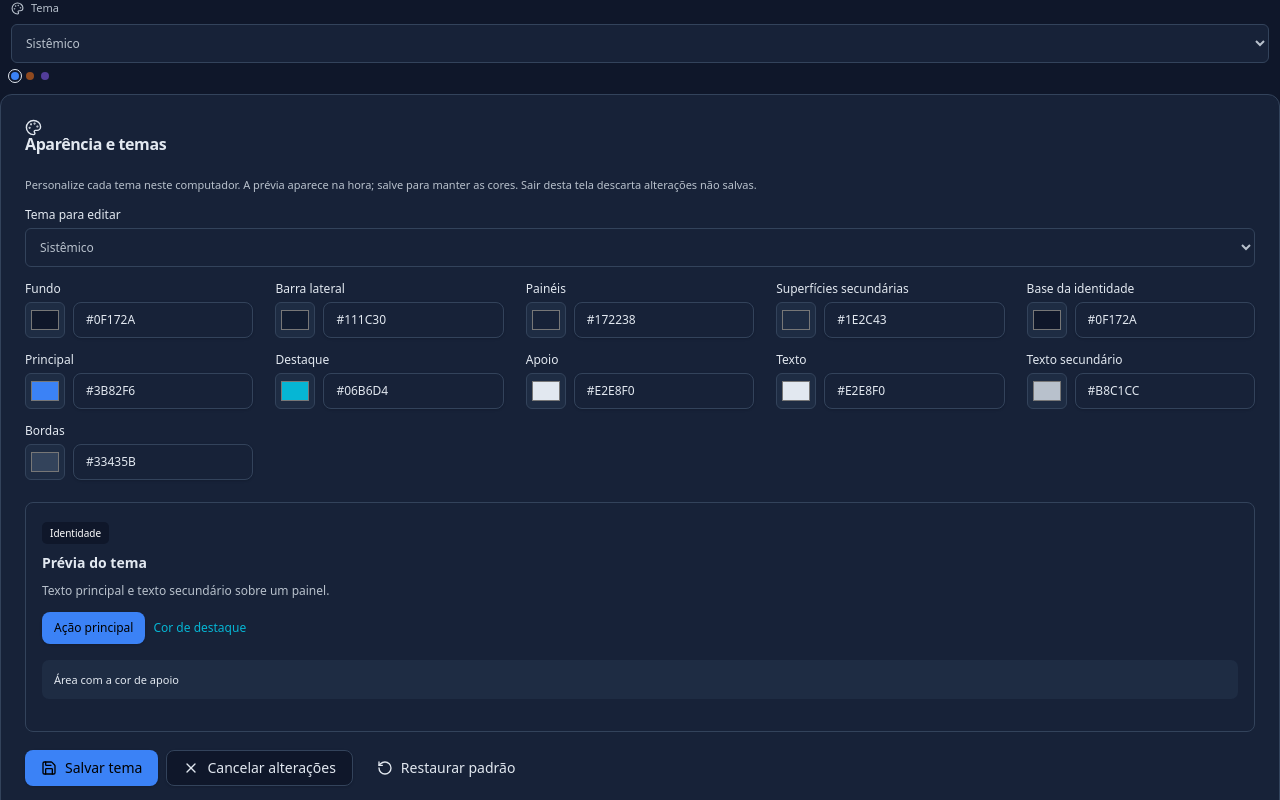
Scenario: troca pelo seletor lateral durante a edição carrega o tema escolhido
Select "Iterativo" in the dropdown labelled "Tema". click: {"x": 640, "y": 43}
box: [11, 24, 1269, 62]
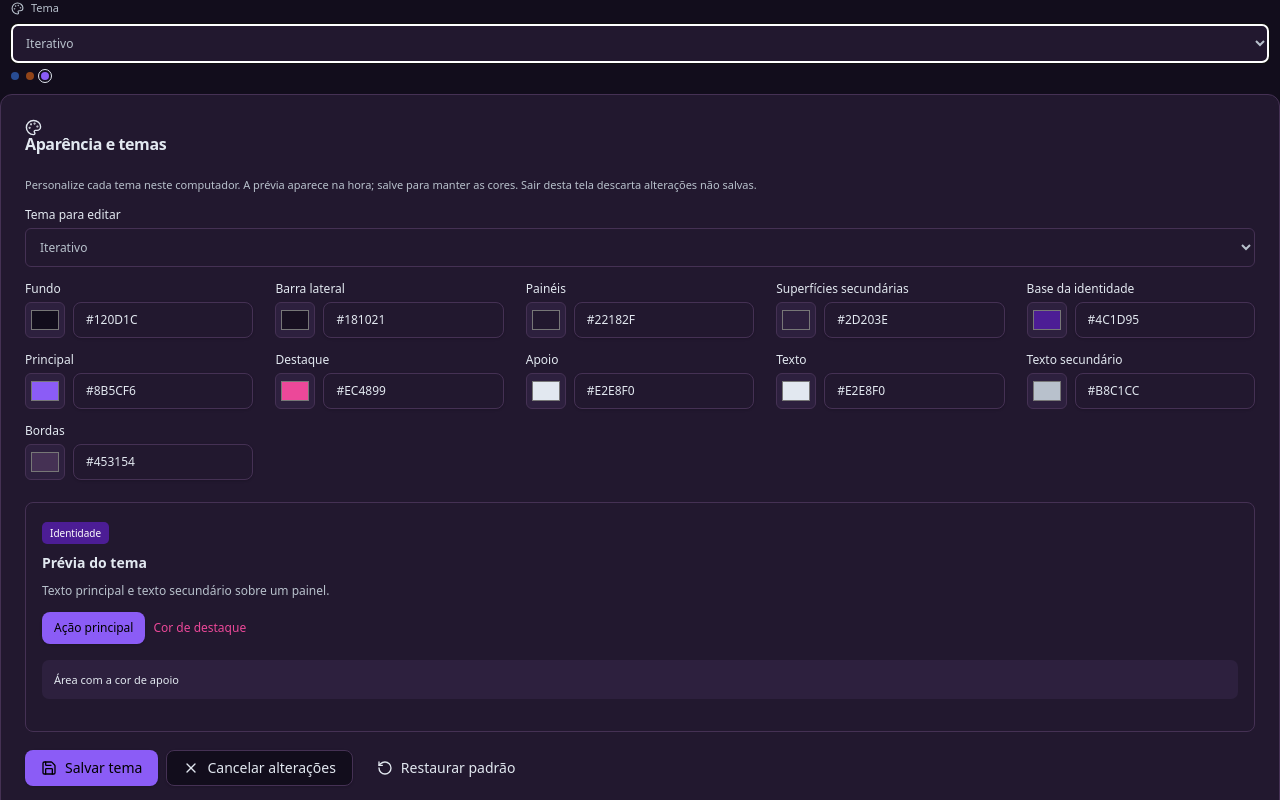
Expected: the dropdown labelled "Tema para editar" shows "Iterativo", [25, 228, 1255, 266]
Expected: the field named "Destaque (HEX)" holds "#EC4899", [323, 372, 504, 408]
